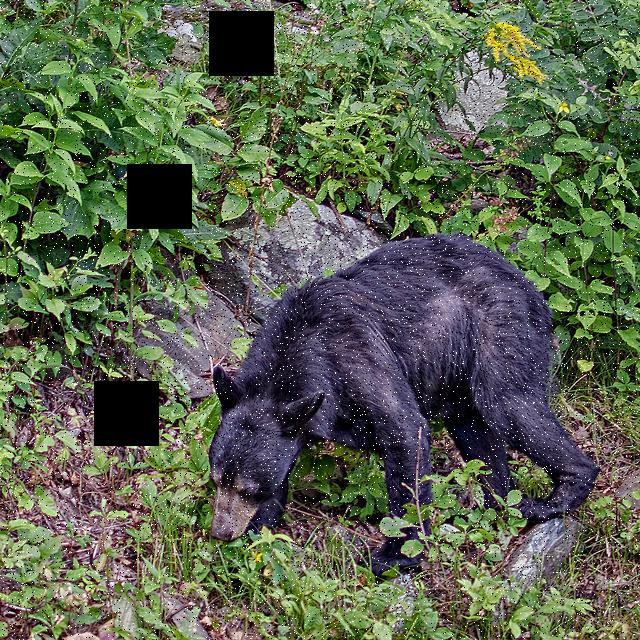Bear: (208, 230, 601, 579)
